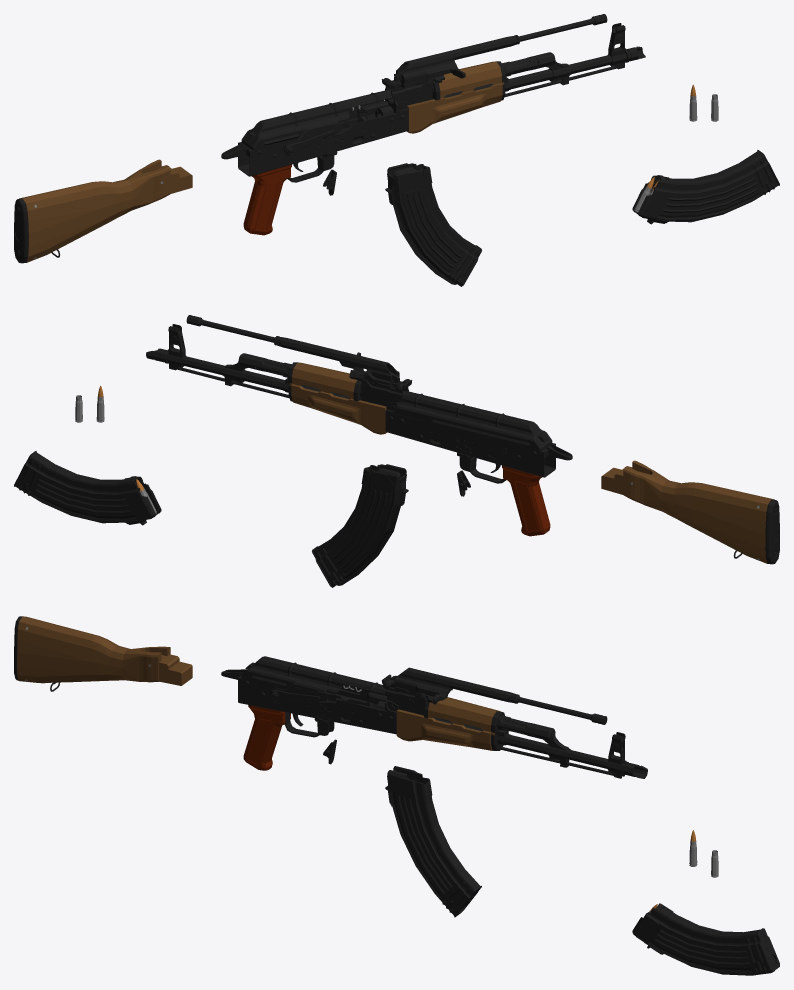
File: low-poly_akm.glb
3 views of the same model, one above another, from view 1: azimuth 30°, elevation 25°; view 2: azimuth 150°, elevation 25°; view 3: azimuth 330°, elevation 25° (orthographic).
Visible parts, largest first — view 1: stock, akm receiver_3, mag_Object_38, mag_Object_36, akm handguard_7, akm dust cover_8, akm barrel_10, bolt, akm grip_4, akm selector_2; view 2: stock, akm receiver_3, mag_Object_38, mag_Object_36, akm dust cover_8, akm handguard_7, akm barrel_10, bolt, akm grip_4; view 3: stock, akm receiver_3, mag_Object_36, mag_Object_38, akm handguard_7, akm barrel_10, akm dust cover_8, bolt, akm grip_4, akm selector_2.
Part boxes in pixels (bbox=[...]): stock: bbox=[14, 159, 192, 263]; akm receiver_3: bbox=[221, 56, 538, 182]; mag_Object_38: bbox=[632, 150, 779, 224]; mag_Object_36: bbox=[385, 163, 481, 286]; akm handguard_7: bbox=[407, 61, 504, 133]; akm dust cover_8: bbox=[241, 90, 391, 150]; akm barrel_10: bbox=[375, 23, 626, 117]; bolt: bbox=[389, 14, 607, 89]; akm grip_4: bbox=[243, 164, 291, 235]; akm selector_2: bbox=[282, 120, 352, 155]; stock: bbox=[601, 460, 779, 564]; akm receiver_3: bbox=[255, 357, 572, 483]; mag_Object_38: bbox=[14, 451, 161, 525]; mag_Object_36: bbox=[312, 464, 408, 587]; akm dust cover_8: bbox=[397, 391, 552, 451]; akm handguard_7: bbox=[289, 362, 386, 434]; akm barrel_10: bbox=[167, 324, 386, 406]; bolt: bbox=[186, 315, 404, 389]; akm grip_4: bbox=[502, 465, 550, 536]; stock: bbox=[14, 616, 192, 691]; akm receiver_3: bbox=[221, 662, 536, 737]; mag_Object_36: bbox=[385, 766, 481, 917]; mag_Object_38: bbox=[632, 903, 779, 975]; akm handguard_7: bbox=[396, 697, 500, 750]; akm barrel_10: bbox=[376, 701, 634, 778]; akm dust cover_8: bbox=[241, 656, 392, 696]; bolt: bbox=[390, 667, 607, 724]; akm grip_4: bbox=[243, 705, 290, 770]; akm selector_2: bbox=[269, 685, 336, 703].
Bounding box in the file's own units: 12.4 × 3.67 × 0.6313.
